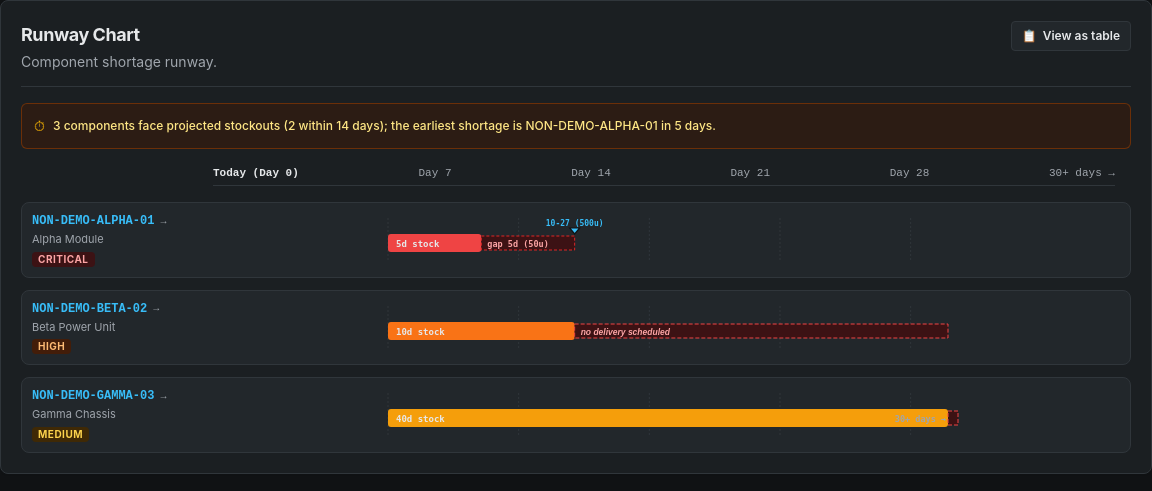
it: RunwayChart Component › renders accessible tabular alternative with all required columns
Note: Switch to table view
Click the button with aria-label "switch to accessible tabular view" at x=1071, y=36, box [1011,21,1131,51]
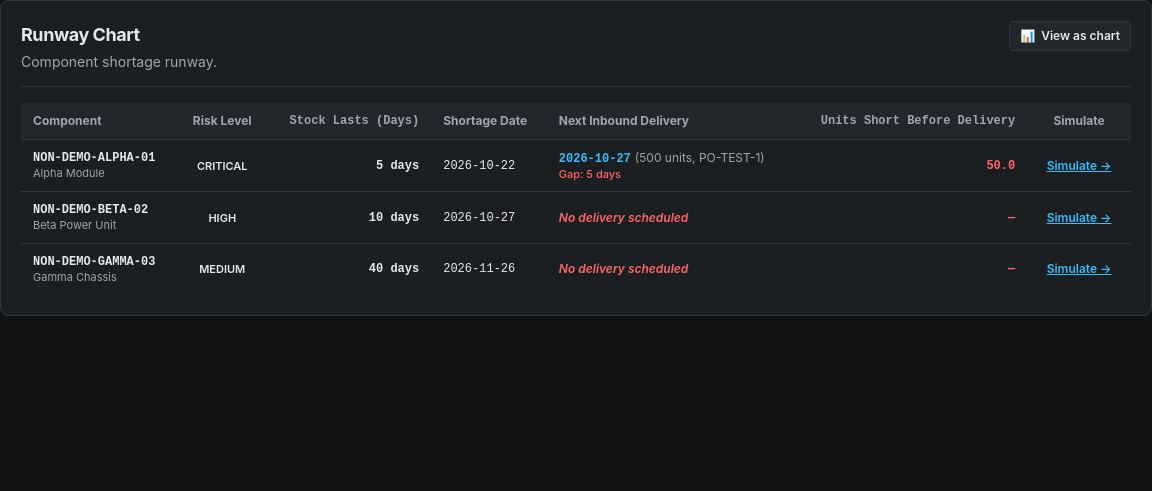
Result: the table is shown at [21,103,1131,295]
Result: the column heading "Risk Level" is shown at [178,103,267,139]
Result: the column heading "Stock Lasts (Days)" is shown at [267,103,431,139]
